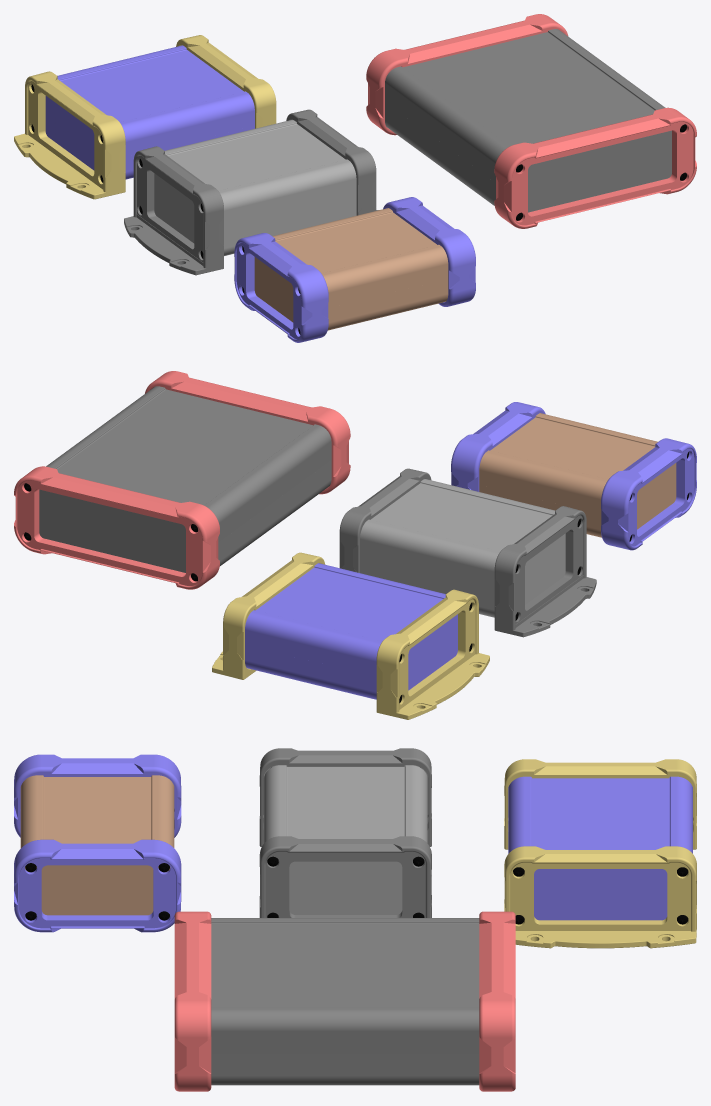
3 views of the same model, one above another, from view 1: azimuth 30°, elevation 25°; view 2: azimuth 150°, elevation 25°; view 3: azimuth 270°, elevation 25° (orthographic). The views are drawn at different scales.
Visible parts, largest first — view 1: SC-FT120x40-10_B, SC-FT120x40-30_黑色 (×2), SC-FT90x35-10_B, SC-FT80x40-10_B, SC-FT75x35-10_B, SC-FT90x35-30_深蓝色 (×2), SC-FT80x40-30_深蓝色 (×2), SC-FT75x35-30_黑色 (×2), SC-FT120x40-20_A, SC-FT75x35-10_A, SC-FT120x40-10_A, SC-FT80x40-10_A (+4 smaller); view 2: SC-FT120x40-10_B, SC-FT120x40-30_黑色 (×2), SC-FT90x35-10_B, SC-FT80x40-10_B, SC-FT90x35-30_深蓝色 (×2), SC-FT75x35-10_B, SC-FT80x40-30_深蓝色 (×2), SC-FT75x35-30_黑色 (×2), SC-FT120x40-20_B, SC-FT90x35-10_A, SC-FT120x40-10_A, SC-FT80x40-10_A (+4 smaller); view 3: SC-FT120x40-10_B, SC-FT90x35-30_深蓝色 (×2), SC-FT120x40-30_黑色 (×2), SC-FT90x35-10_B, SC-FT75x35-30_黑色 (×2), SC-FT80x40-10_B, SC-FT80x40-30_深蓝色 (×2), SC-FT75x35-10_B, SC-FT120x40-10_A, SC-FT90x35-20_A, SC-FT80x40-20_A, SC-FT75x35-20_A.
Boxes of the visible parts, x1=… form: SC-FT120x40-10_B: x1=385, y1=29, x2=665, y2=182; SC-FT120x40-30_黑色 (×2): x1=366, y1=14, x2=696, y2=228; SC-FT90x35-10_B: x1=57, y1=45, x2=254, y2=156; SC-FT80x40-10_B: x1=164, y1=119, x2=356, y2=229; SC-FT75x35-10_B: x1=273, y1=208, x2=448, y2=307; SC-FT90x35-30_深蓝色 (×2): x1=14, y1=35, x2=276, y2=199; SC-FT80x40-30_深蓝色 (×2): x1=124, y1=109, x2=378, y2=275; SC-FT75x35-30_黑色 (×2): x1=234, y1=197, x2=475, y2=342; SC-FT120x40-20_A: x1=528, y1=130, x2=671, y2=212; SC-FT75x35-10_A: x1=327, y1=279, x2=448, y2=330; SC-FT120x40-10_A: x1=385, y1=102, x2=495, y2=205; SC-FT80x40-10_A: x1=224, y1=197, x2=356, y2=255; SC-FT120x40-10_B: x1=46, y1=386, x2=331, y2=542; SC-FT120x40-30_黑色 (×2): x1=14, y1=371, x2=350, y2=589; SC-FT90x35-10_B: x1=245, y1=563, x2=445, y2=676; SC-FT80x40-10_B: x1=360, y1=479, x2=554, y2=590; SC-FT90x35-30_深蓝色 (×2): x1=212, y1=552, x2=489, y2=719; SC-FT75x35-10_B: x1=479, y1=413, x2=657, y2=514; SC-FT80x40-30_深蓝色 (×2): x1=339, y1=468, x2=596, y2=637; SC-FT75x35-30_黑色 (×2): x1=451, y1=402, x2=696, y2=550; SC-FT120x40-20_B: x1=39, y1=489, x2=185, y2=572; SC-FT90x35-10_A: x1=245, y1=645, x2=376, y2=699; SC-FT120x40-10_A: x1=218, y1=460, x2=331, y2=565; SC-FT80x40-10_A: x1=360, y1=558, x2=494, y2=617; SC-FT120x40-10_B: x1=211, y1=918, x2=479, y2=1053; SC-FT90x35-30_深蓝色 (×2): x1=504, y1=759, x2=696, y2=948; SC-FT120x40-30_黑色 (×2): x1=174, y1=911, x2=515, y2=1091; SC-FT90x35-10_B: x1=508, y1=776, x2=692, y2=853; SC-FT75x35-30_黑色 (×2): x1=14, y1=754, x2=181, y2=932; SC-FT80x40-10_B: x1=264, y1=765, x2=427, y2=842; SC-FT80x40-30_深蓝色 (×2): x1=259, y1=748, x2=431, y2=917; SC-FT75x35-10_B: x1=20, y1=775, x2=174, y2=872; SC-FT120x40-10_A: x1=211, y1=1053, x2=479, y2=1085; SC-FT90x35-20_A: x1=534, y1=869, x2=667, y2=920; SC-FT80x40-20_A: x1=289, y1=861, x2=402, y2=914; SC-FT75x35-20_A: x1=41, y1=865, x2=153, y2=915.
Size of the model in its own units: 0.3188 by 0.0478 by 0.3333.
56 materials, 9 textured.
